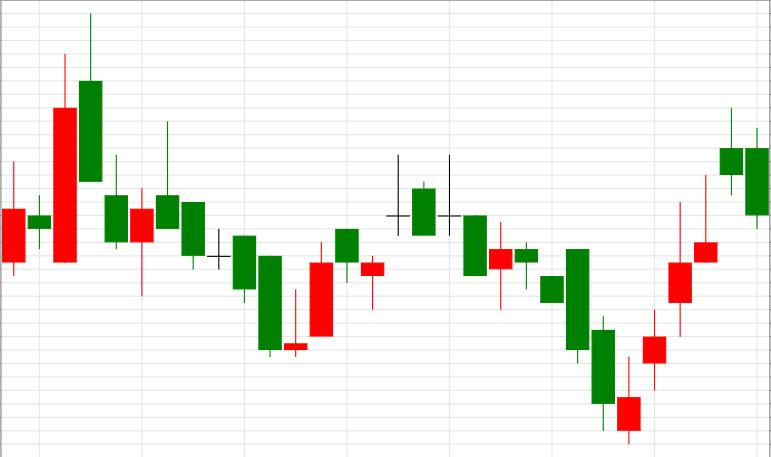morning_star_rise: (156, 121, 333, 357)
three_white_soldiers_rise: (514, 200, 692, 444)
